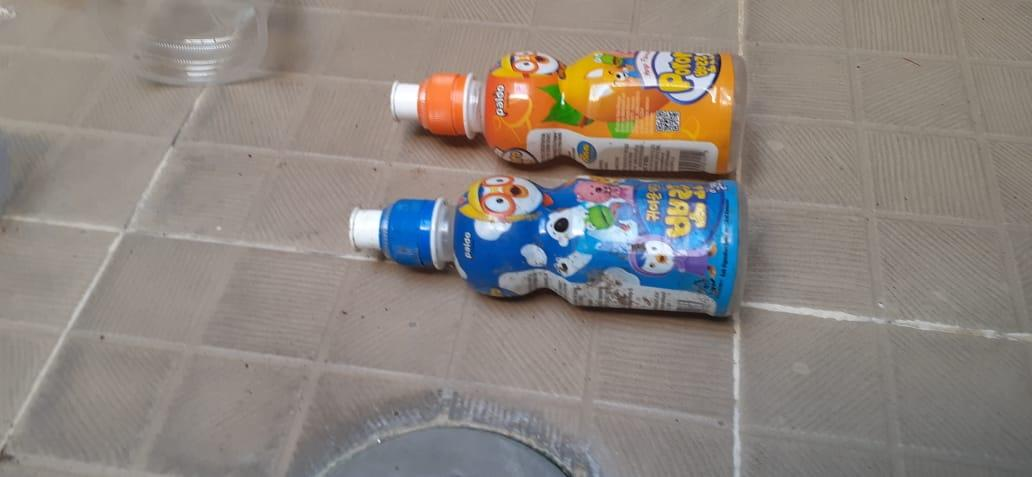Plastik: (348, 175, 740, 318), (387, 40, 742, 173)
